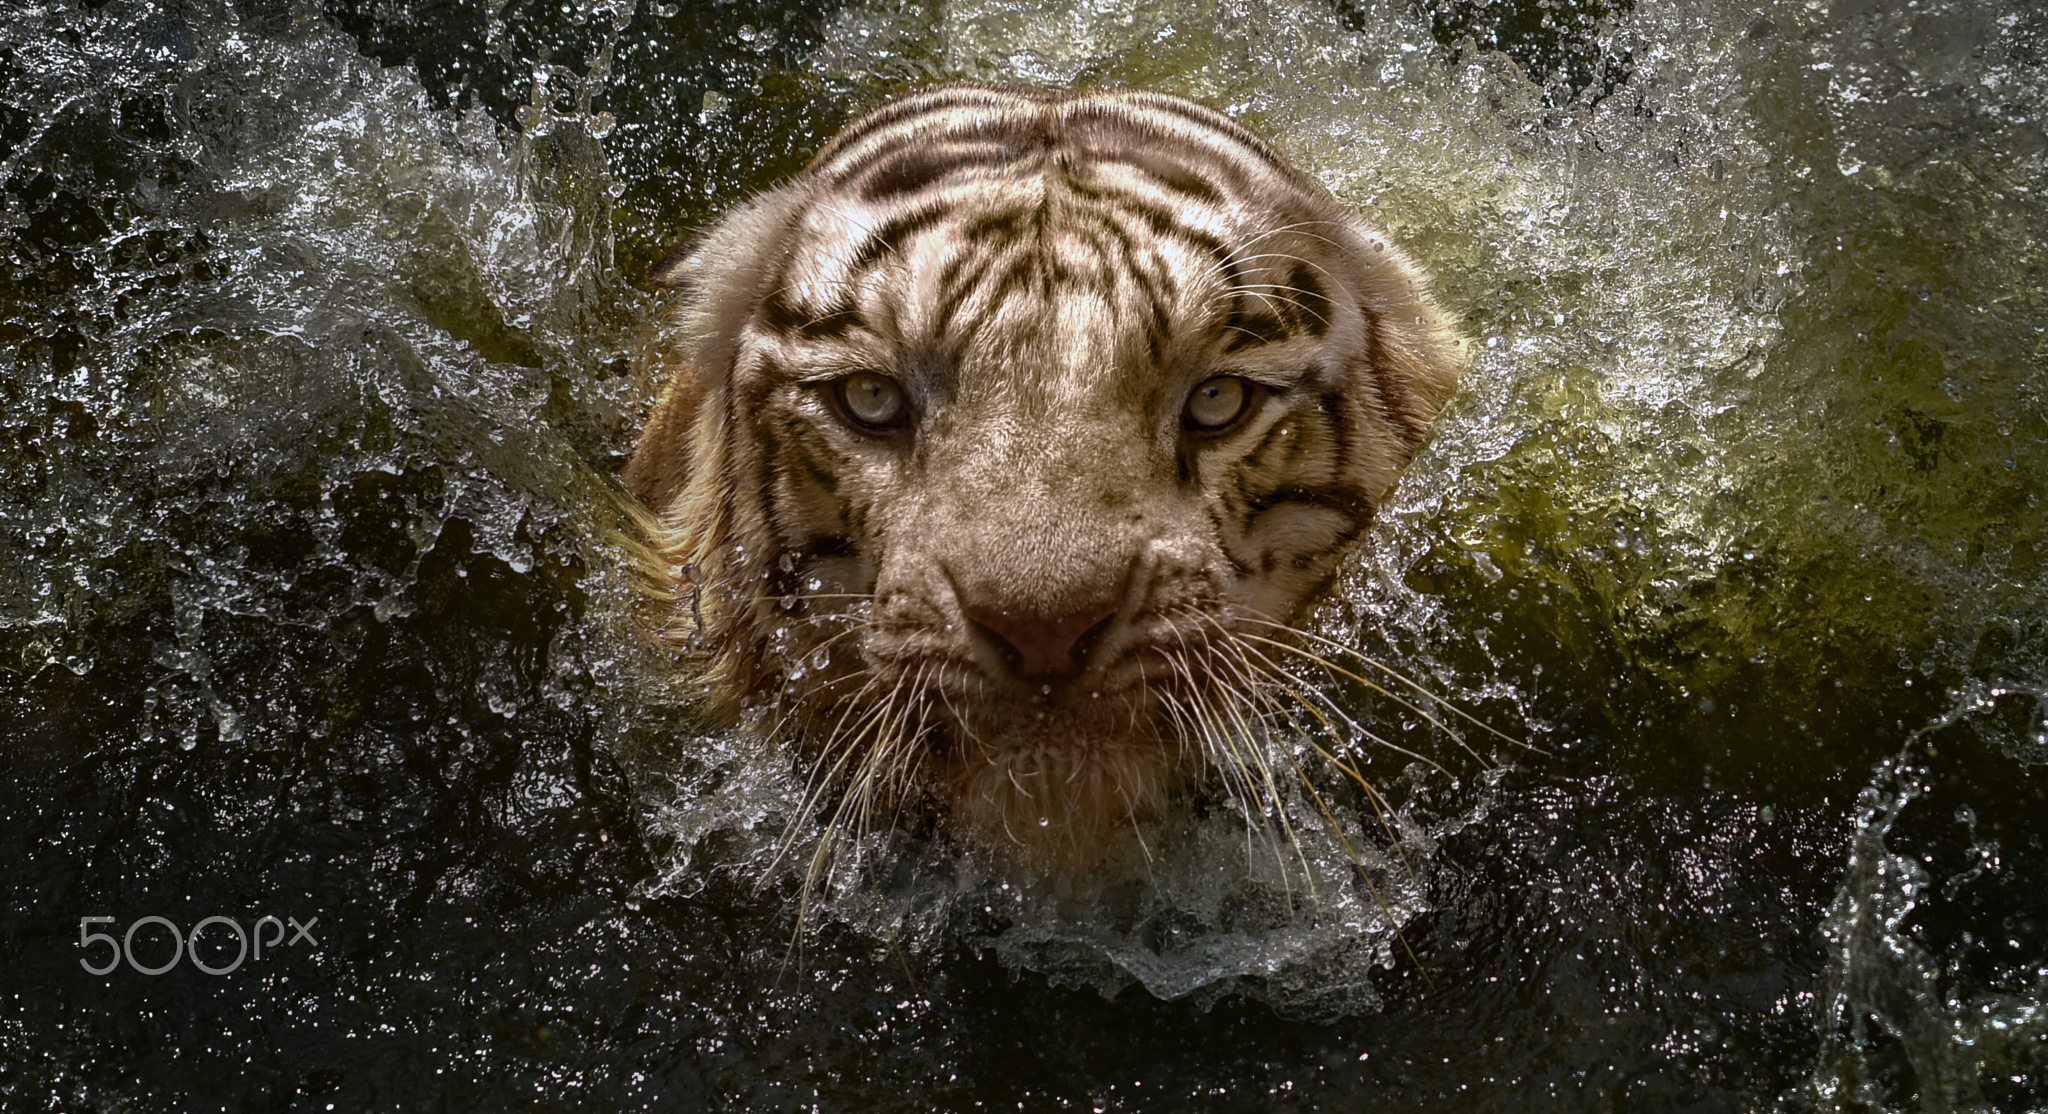tiger: (610, 66, 1468, 925)
